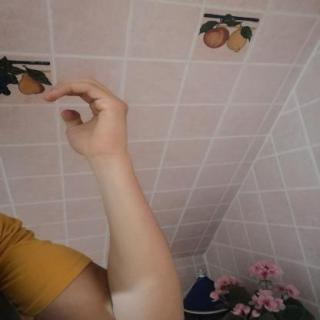JEEM: (32, 70, 145, 164)
